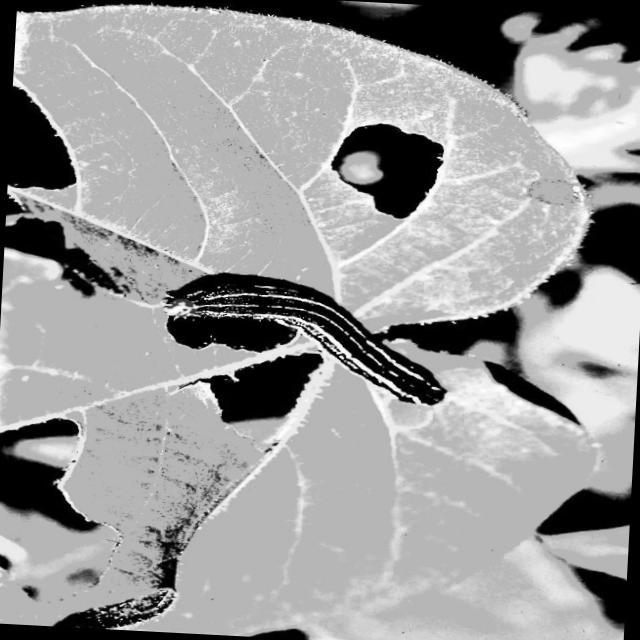Armyworm: (120, 244, 512, 424)
Armyworm_damage: (284, 105, 486, 237)
